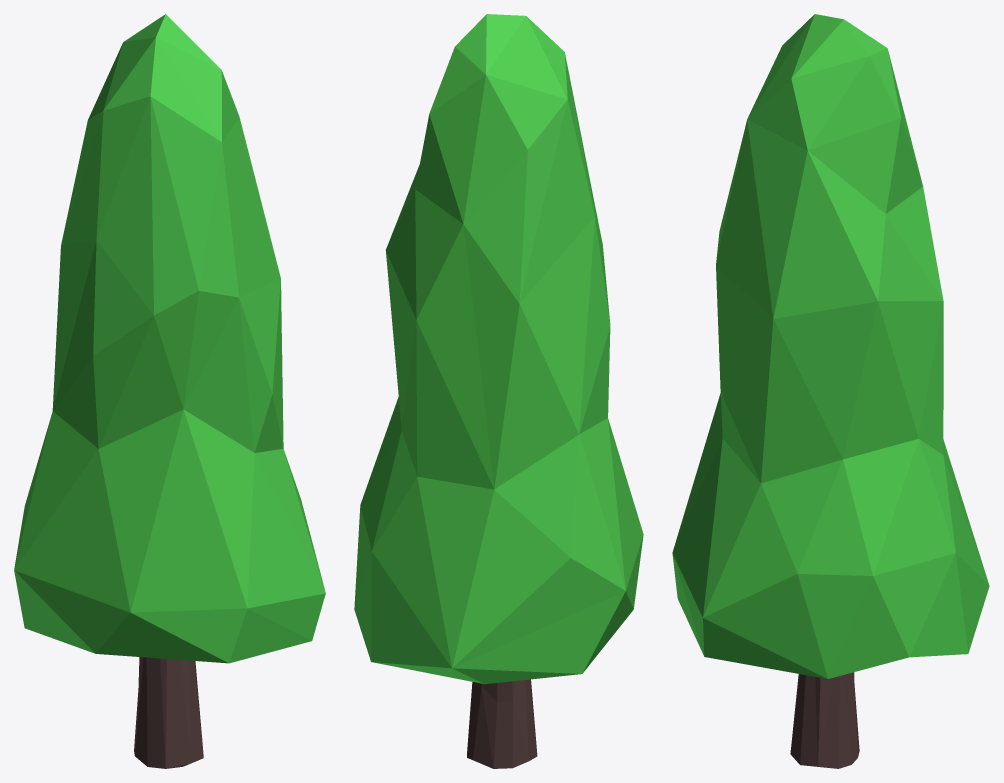
The picture shows the model from 3 angles, left to right: view 1: azimuth 30°, elevation 25°; view 2: azimuth 150°, elevation 25°; view 3: azimuth 270°, elevation 25°; orthographic projection.
Visible parts, largest first — view 1: leaves_Sphere, trunk_Cube.005; view 2: leaves_Sphere, trunk_Cube.005; view 3: leaves_Sphere, trunk_Cube.005.
Part boxes in pixels (<box>): leaves_Sphere: <box>14,14,325,663</box>; trunk_Cube.005: <box>134,657,203,768</box>; leaves_Sphere: <box>354,14,643,684</box>; trunk_Cube.005: <box>467,679,537,768</box>; leaves_Sphere: <box>672,14,989,678</box>; trunk_Cube.005: <box>790,672,859,768</box>.
Bounding box in the file's own units: 314 × 854 × 332.
